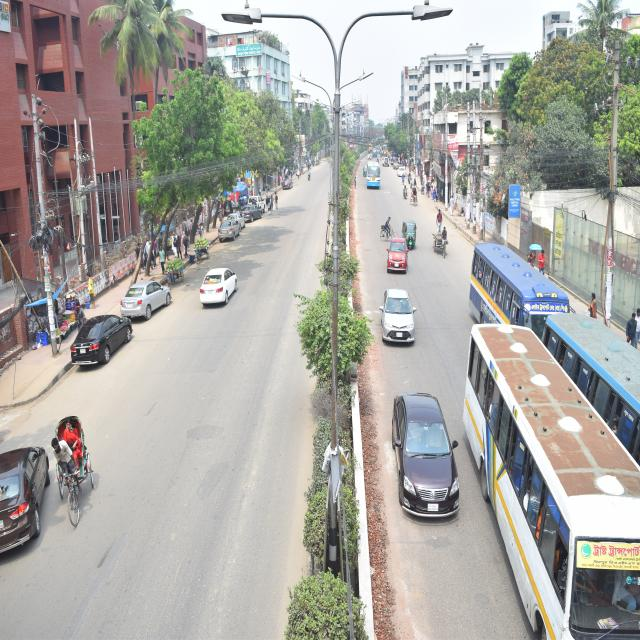bus: (464, 310, 640, 640), (541, 289, 640, 489), (465, 242, 573, 335), (364, 158, 382, 196)
car: (390, 392, 467, 550), (0, 433, 42, 573), (68, 312, 134, 376), (376, 284, 417, 349), (118, 278, 174, 318), (198, 262, 240, 312), (384, 232, 410, 280), (218, 218, 242, 248), (243, 201, 263, 222)
